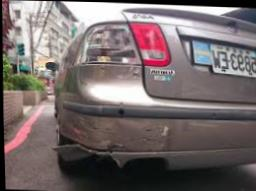Bumper: (41, 102, 195, 182)
Light: (68, 17, 144, 72)
